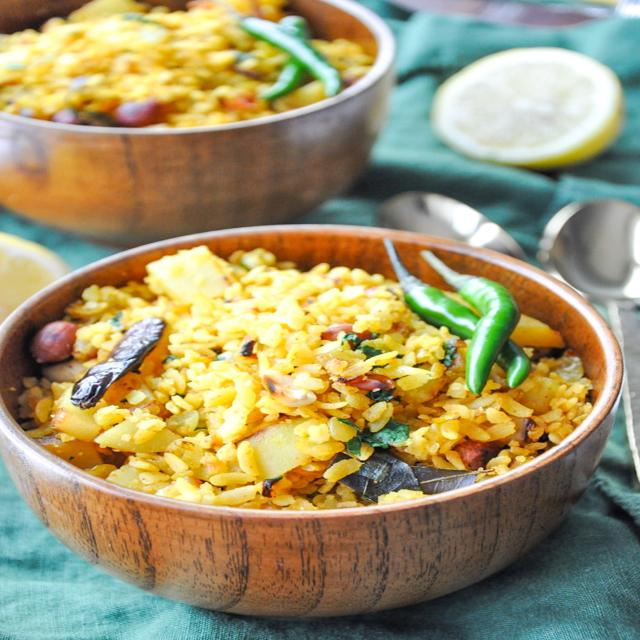POHA: (29, 244, 594, 508), (0, 0, 372, 124)
